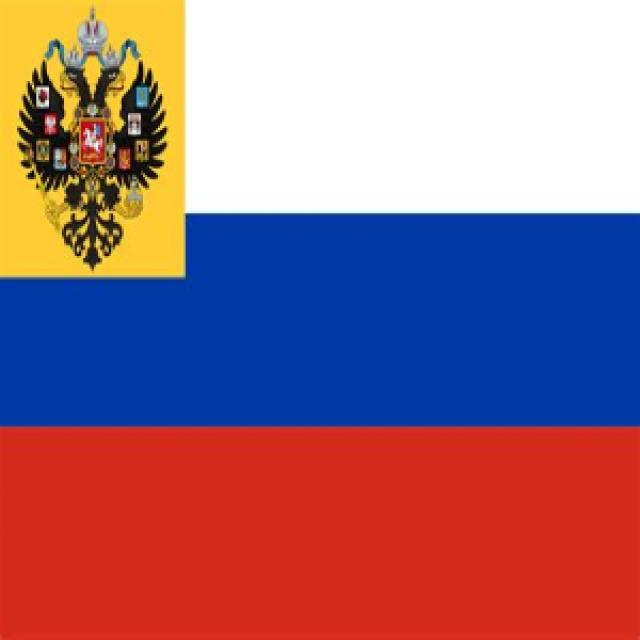russia: (187, 94, 640, 640)
